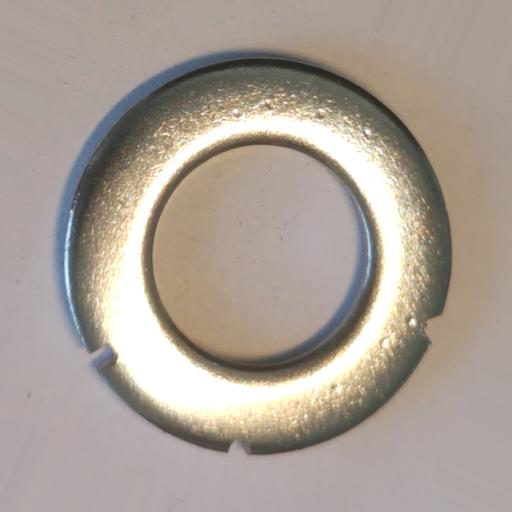burr: (422, 313, 443, 345), (89, 344, 115, 369), (225, 439, 249, 456)
